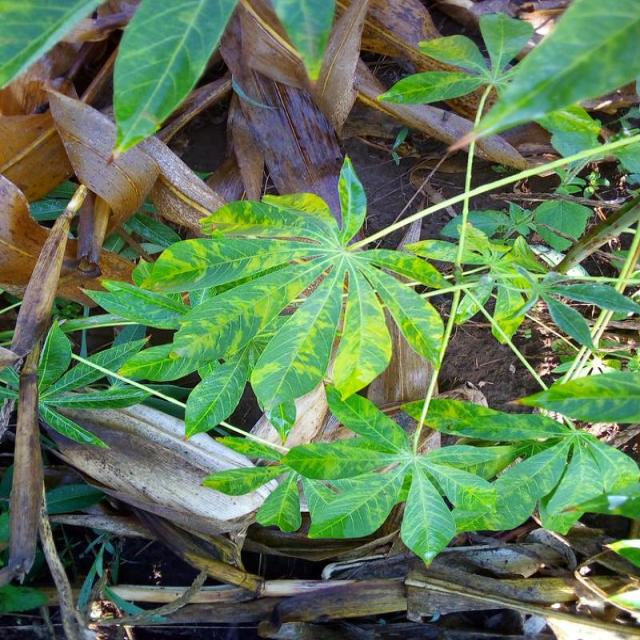cassava leaf: (144, 152, 450, 442), (110, 0, 237, 158)
